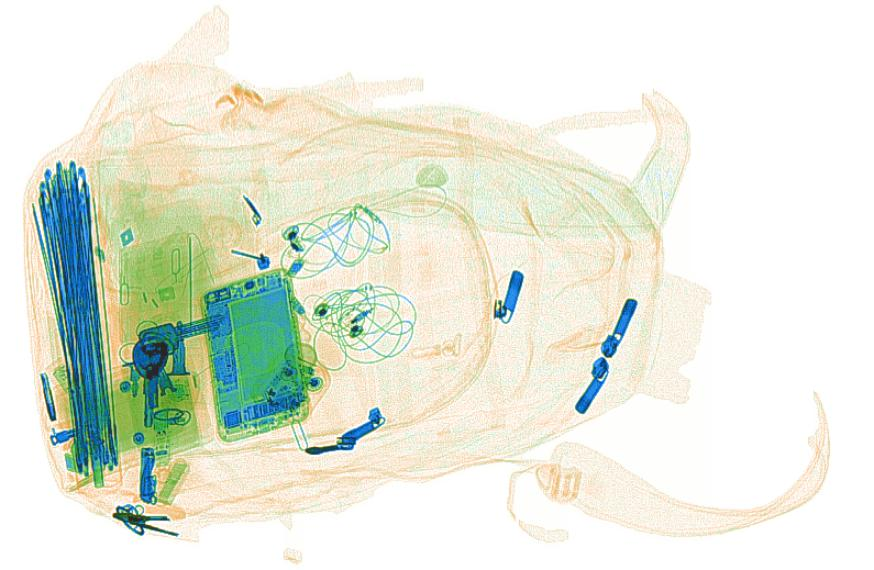USBFlashDisk: (152, 406, 173, 469)
